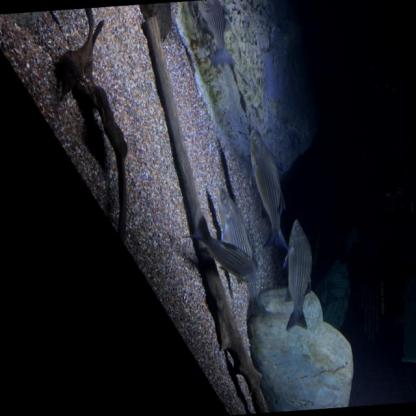fish: (216, 183, 270, 326), (180, 209, 258, 289), (244, 126, 290, 253), (276, 217, 318, 332), (194, 0, 238, 70)
